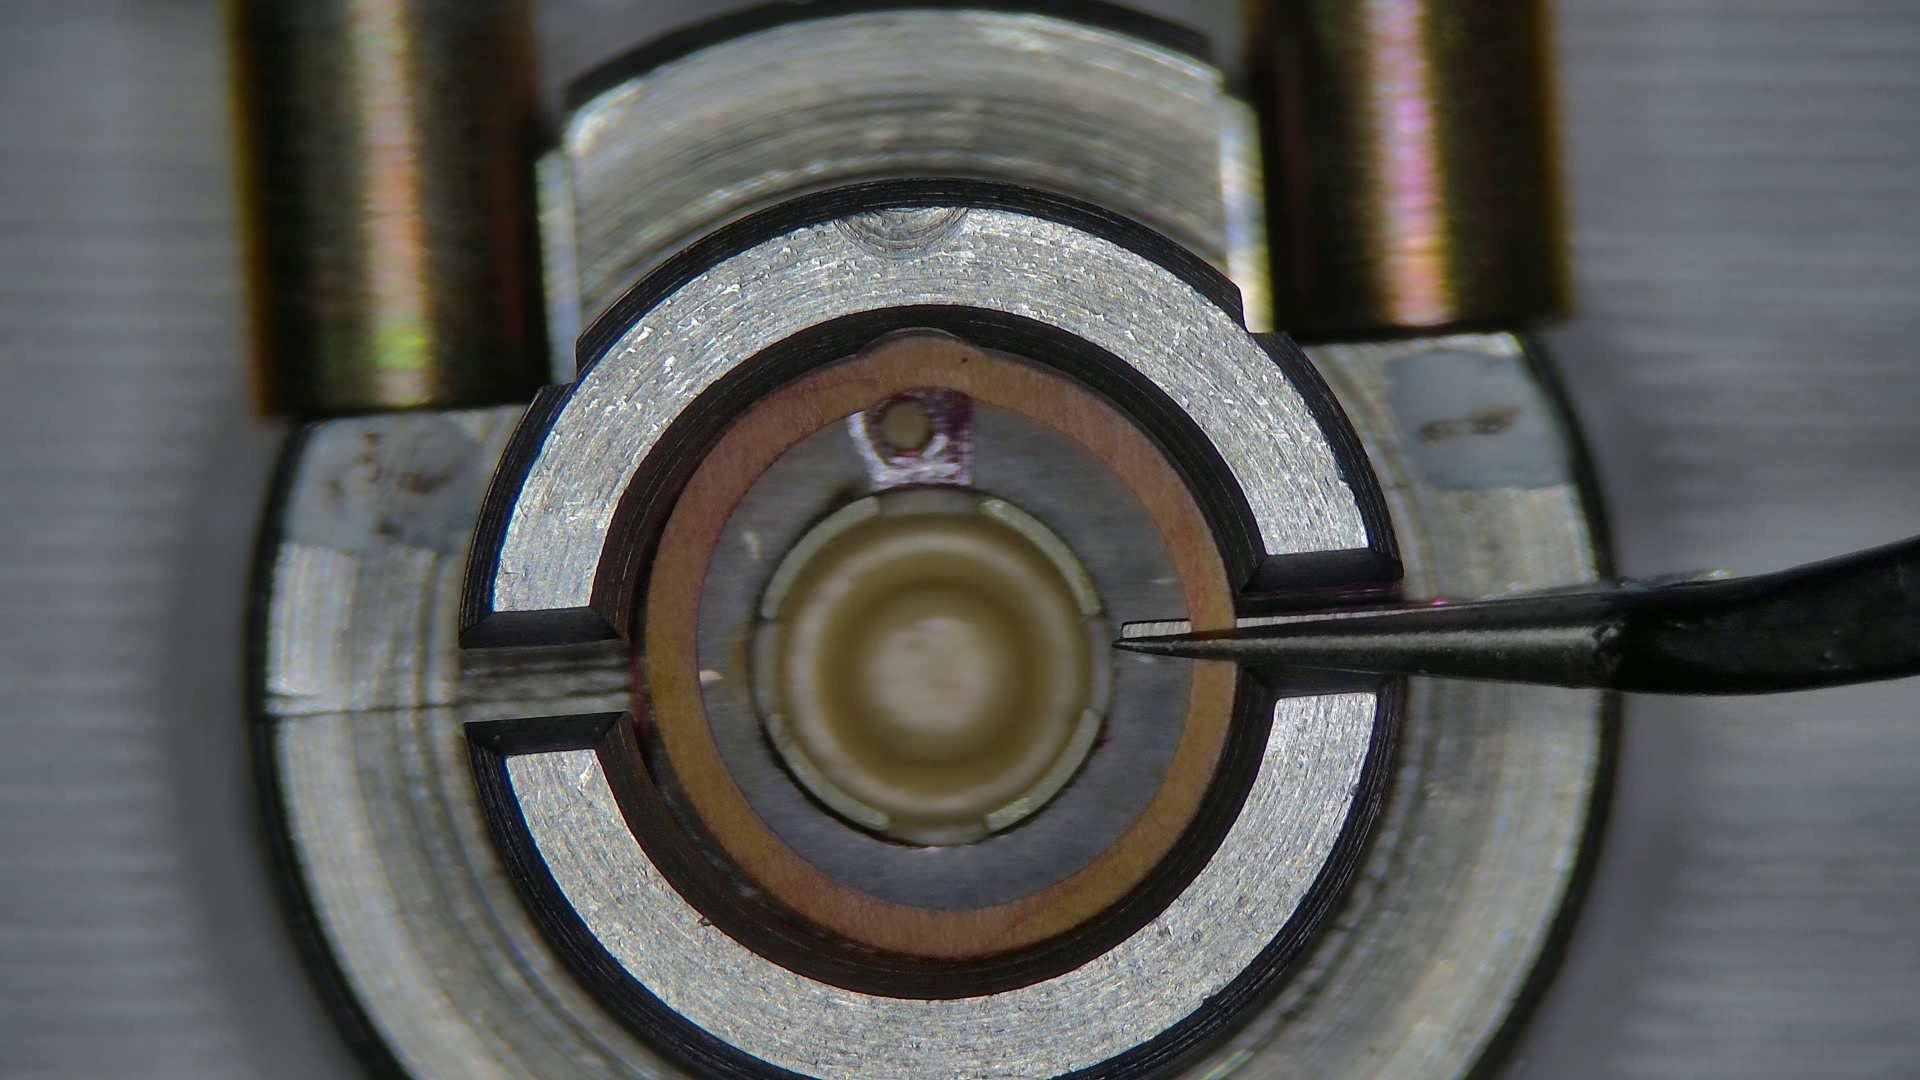GreyOring: (641, 331, 1236, 957)
YellowOring: (700, 392, 1188, 910)
